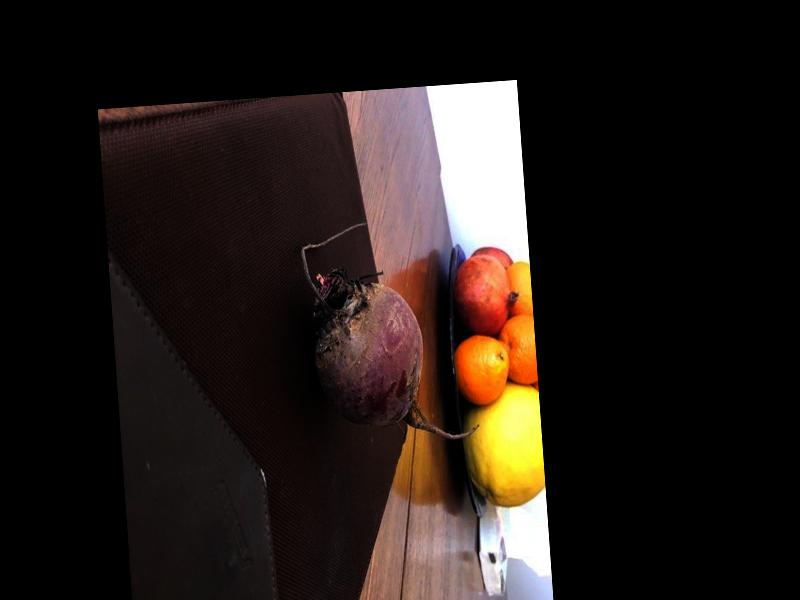Beet: (299, 214, 481, 450)
